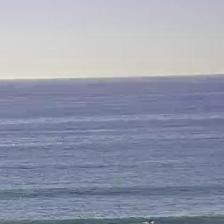surfer: (146, 220, 156, 223)
